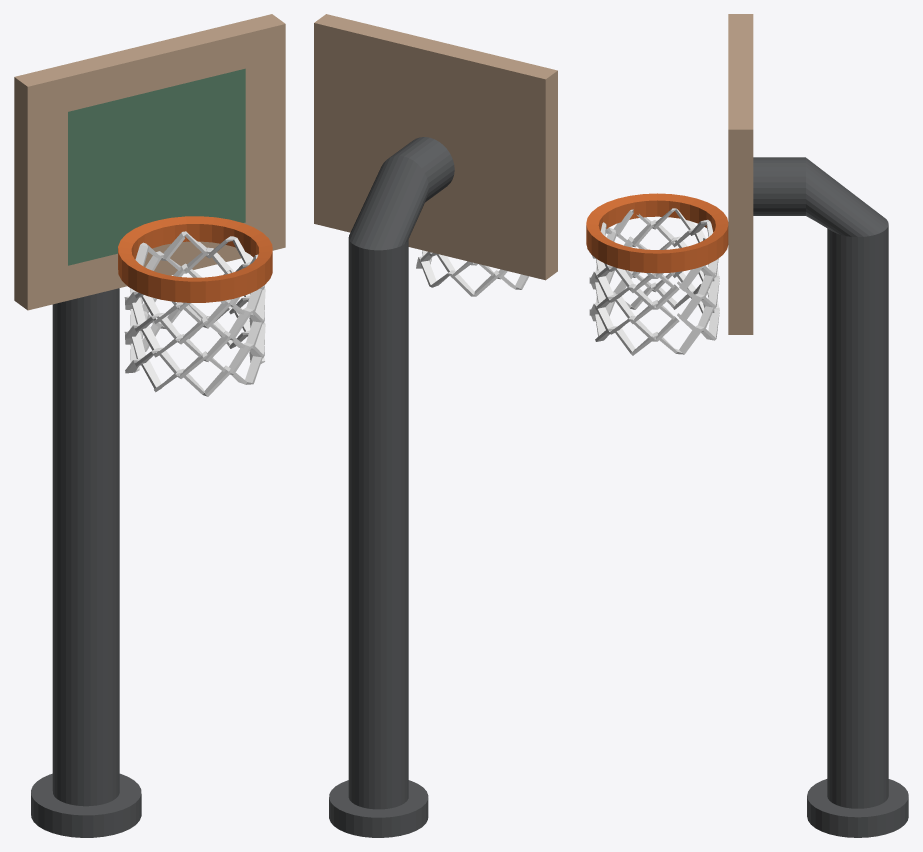
File: basketballring.fbx
3 views of the same model, side by side, from view 1: azimuth 30°, elevation 25°; view 2: azimuth 150°, elevation 25°; view 3: azimuth 270°, elevation 25° (orthographic). The views are drawn at different scales.
Parts seen in each view (by area): view 1: Cube; view 2: Cube; view 3: Cube.
Part boxes in pixels (box(x1,y1,x2,y2)): Cube: box(14, 14, 285, 837); Cube: box(314, 14, 557, 837); Cube: box(586, 14, 908, 837).
Bounding box in the file's own units: 538 × 1616 × 634.
